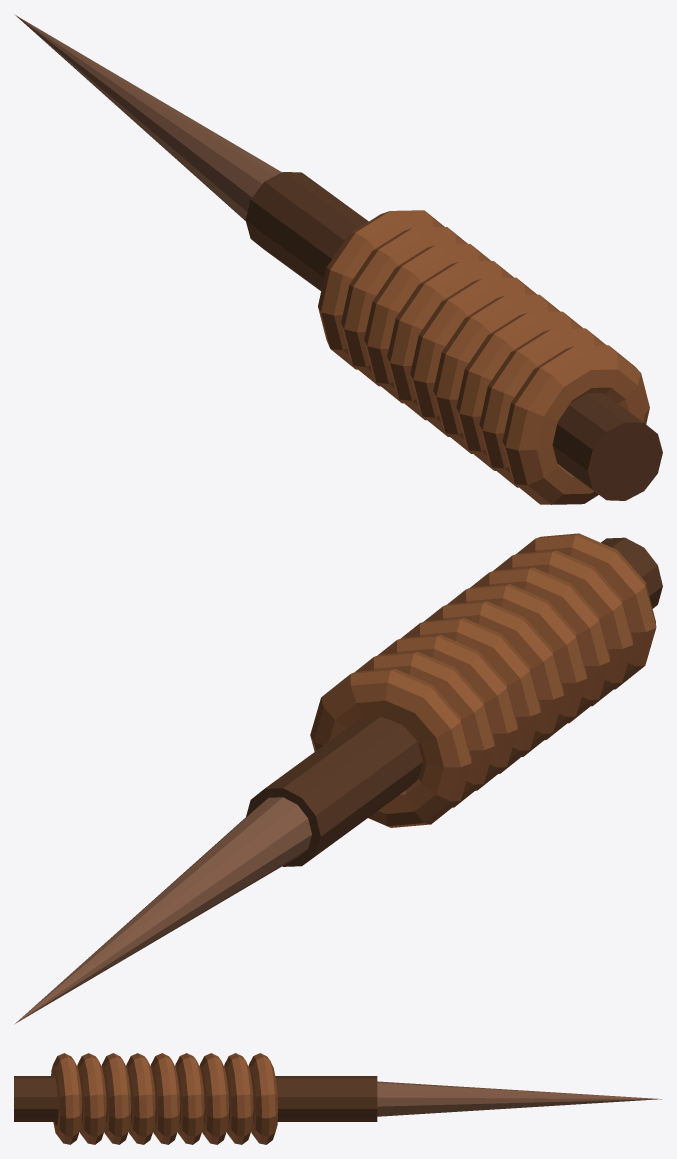
The model's file is Wand 14.glb.
3 renders of one model, top to bottom at view 1: azimuth 30°, elevation 25°; view 2: azimuth 150°, elevation 25°; view 3: azimuth 270°, elevation 25°, orthographic. The views are drawn at different scales.
Parts seen in each view (by area): view 1: GeneratedWand; view 2: GeneratedWand; view 3: GeneratedWand.
Part boxes in pixels (box(x1,y1,x2,y2)): GeneratedWand: box(14, 14, 662, 504); GeneratedWand: box(14, 533, 662, 1024); GeneratedWand: box(14, 1053, 661, 1144).
Bounding box in the file's own units: 0.0709 × 0.0714 × 0.5015.
